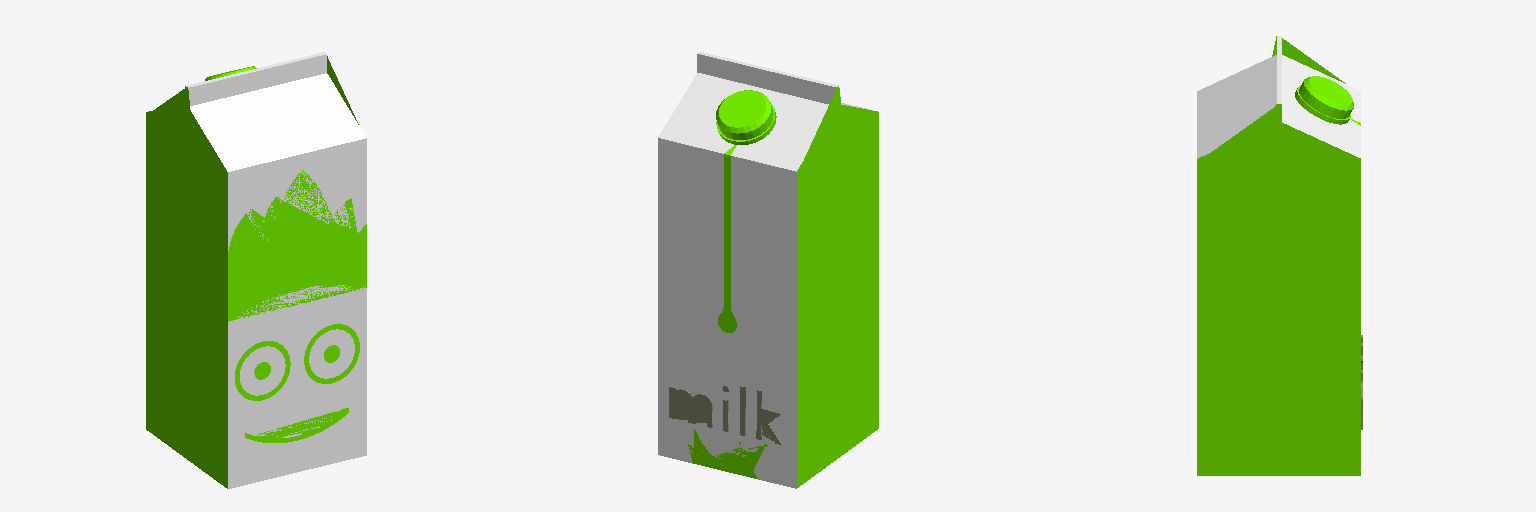
The model's file is milk_carton.obj.
3 views of the same model, side by side, from view 1: azimuth 30°, elevation 25°; view 2: azimuth 150°, elevation 25°; view 3: azimuth 270°, elevation 25° (orthographic).
Parts seen in each view (by area): view 1: Mesh6 Sans_titre1 Model; view 2: Mesh6 Sans_titre1 Model, Mesh4 milk1 Sans_titre1 Model, Mesh1 milk1 Sans_titre1 Model; view 3: Mesh6 Sans_titre1 Model.
Part boxes in pixels (left/top/right/bottom): Mesh6 Sans_titre1 Model: left=146, top=52, right=366, bottom=488; Mesh6 Sans_titre1 Model: left=658, top=52, right=878, bottom=488; Mesh4 milk1 Sans_titre1 Model: left=669, top=386, right=712, bottom=427; Mesh1 milk1 Sans_titre1 Model: left=756, top=390, right=782, bottom=444; Mesh6 Sans_titre1 Model: left=1197, top=36, right=1360, bottom=475.
Size of the model in its own units: 119 by 304 by 122.